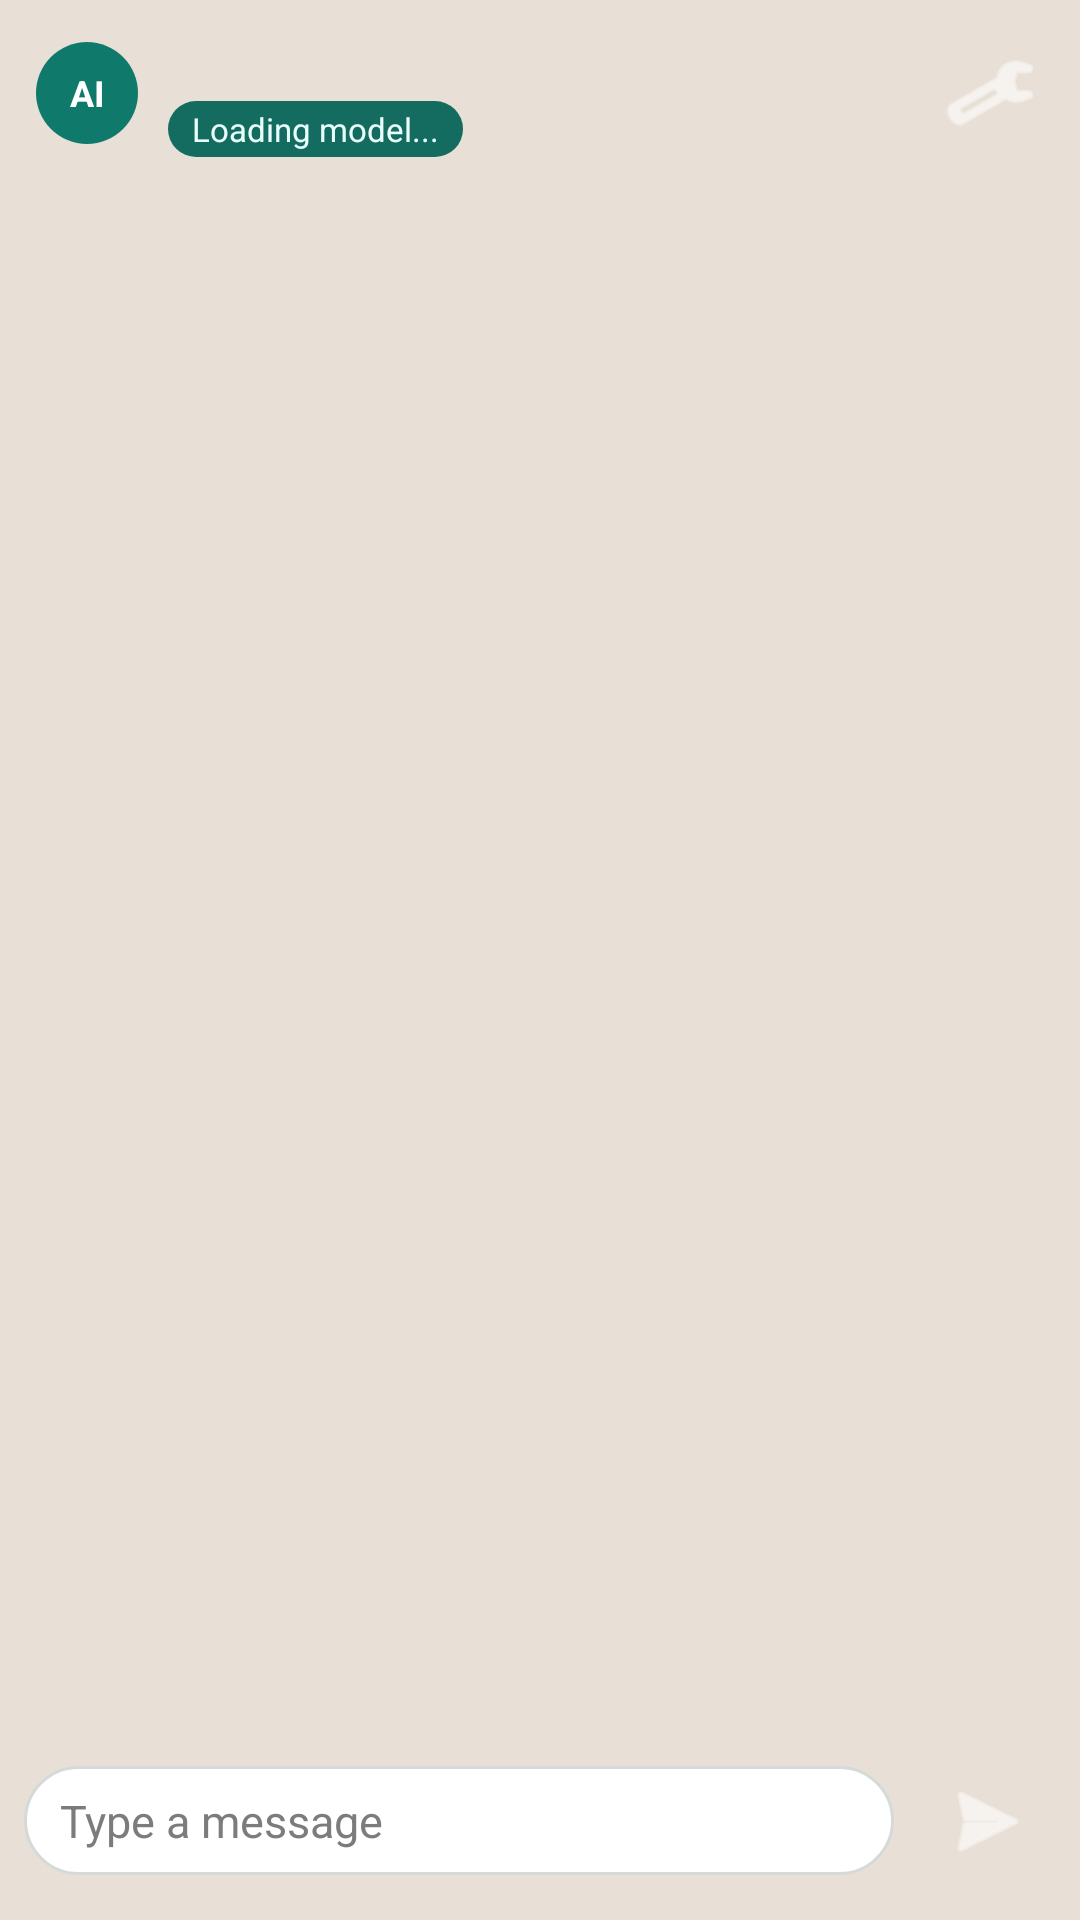

Icons on this 1080*1920 Android screen, each with the point to tap as (x,y):
Send: (988,1821)
Settings: (990,93)
